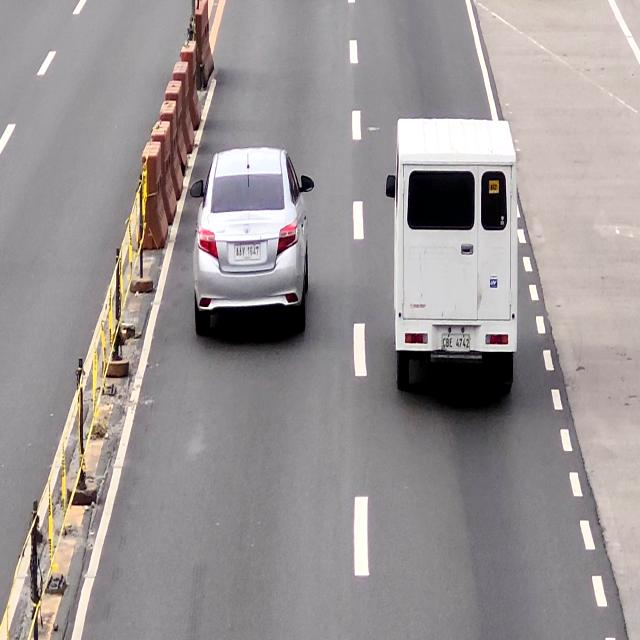Car: (383, 117, 519, 402), (189, 147, 313, 337)
License-Plate: (441, 334, 471, 354), (234, 243, 260, 259)
